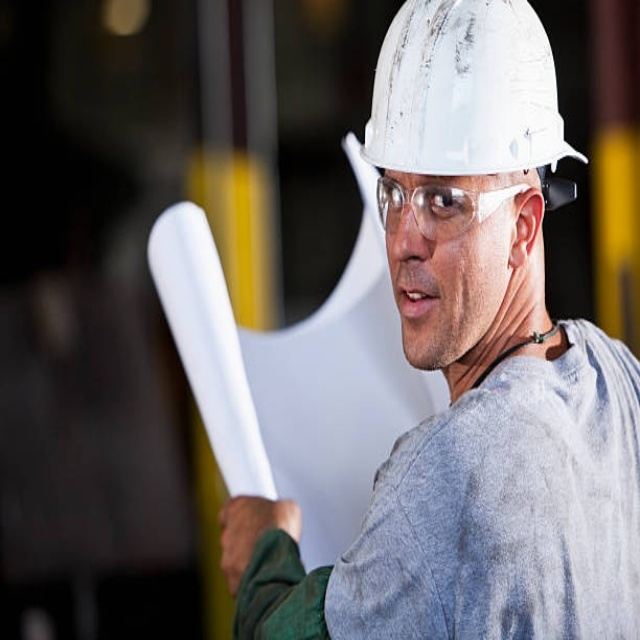Gafas: (374, 171, 529, 245)
Sin_guantes: (218, 492, 298, 599)
Sin_mascara: (392, 268, 454, 347)
